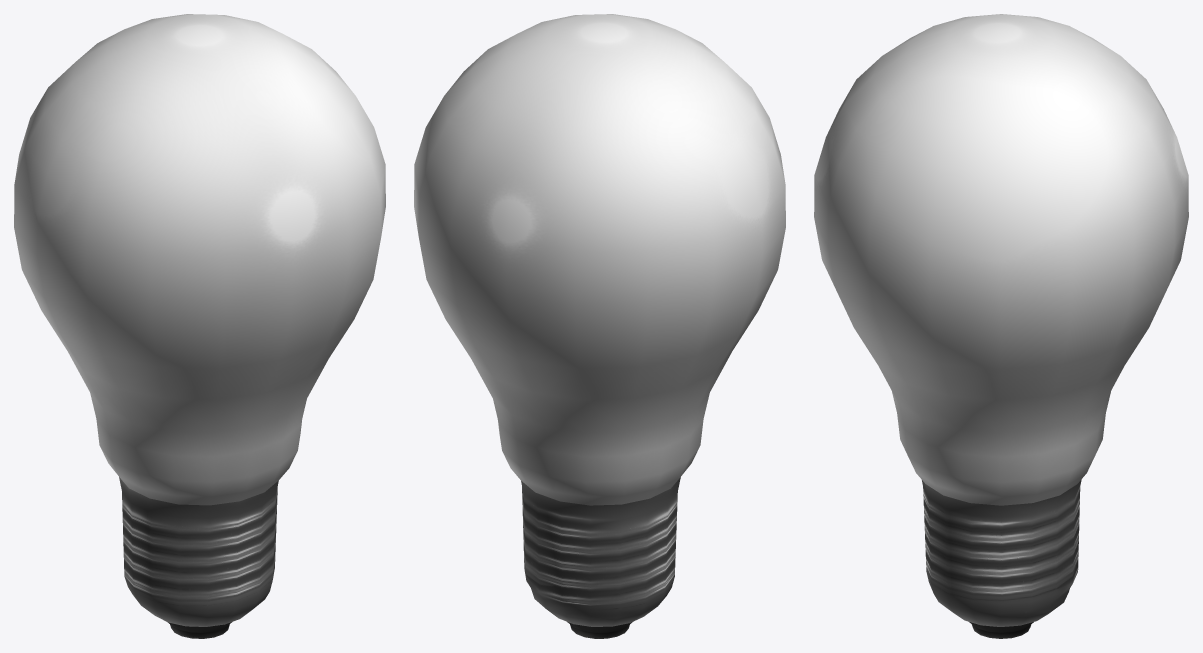
Rendered from LightBulb_01.fbx.
3 views of the same model, side by side, from view 1: azimuth 30°, elevation 25°; view 2: azimuth 150°, elevation 25°; view 3: azimuth 270°, elevation 25° (orthographic).
Parts seen in each view (by area): view 1: lw_poly_bulb; view 2: lw_poly_bulb; view 3: lw_poly_bulb.
Boxes of the visible parts, left/top/right/bottom form: lw_poly_bulb: left=14, top=14, right=385, bottom=638; lw_poly_bulb: left=414, top=14, right=785, bottom=638; lw_poly_bulb: left=814, top=14, right=1188, bottom=638.
Bounding box in the file's own units: 3.91 × 6.86 × 3.91.
1 material, 1 textured.
